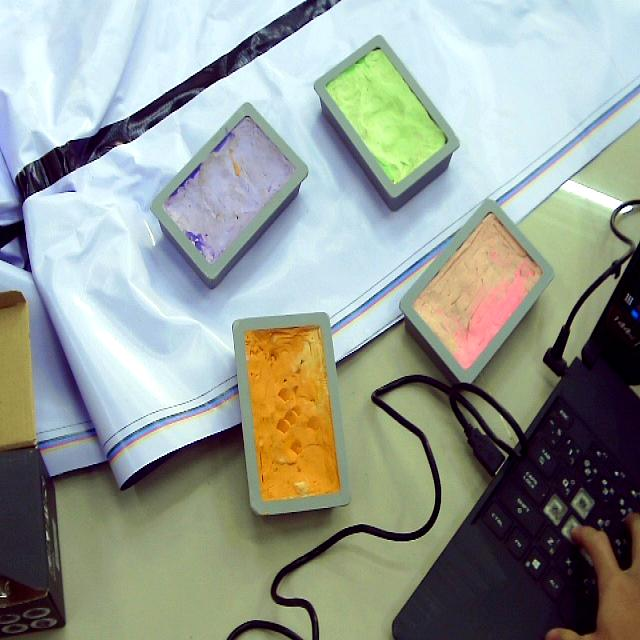block: (396, 198, 555, 388), (148, 102, 306, 289), (308, 34, 457, 212), (230, 311, 350, 517)
